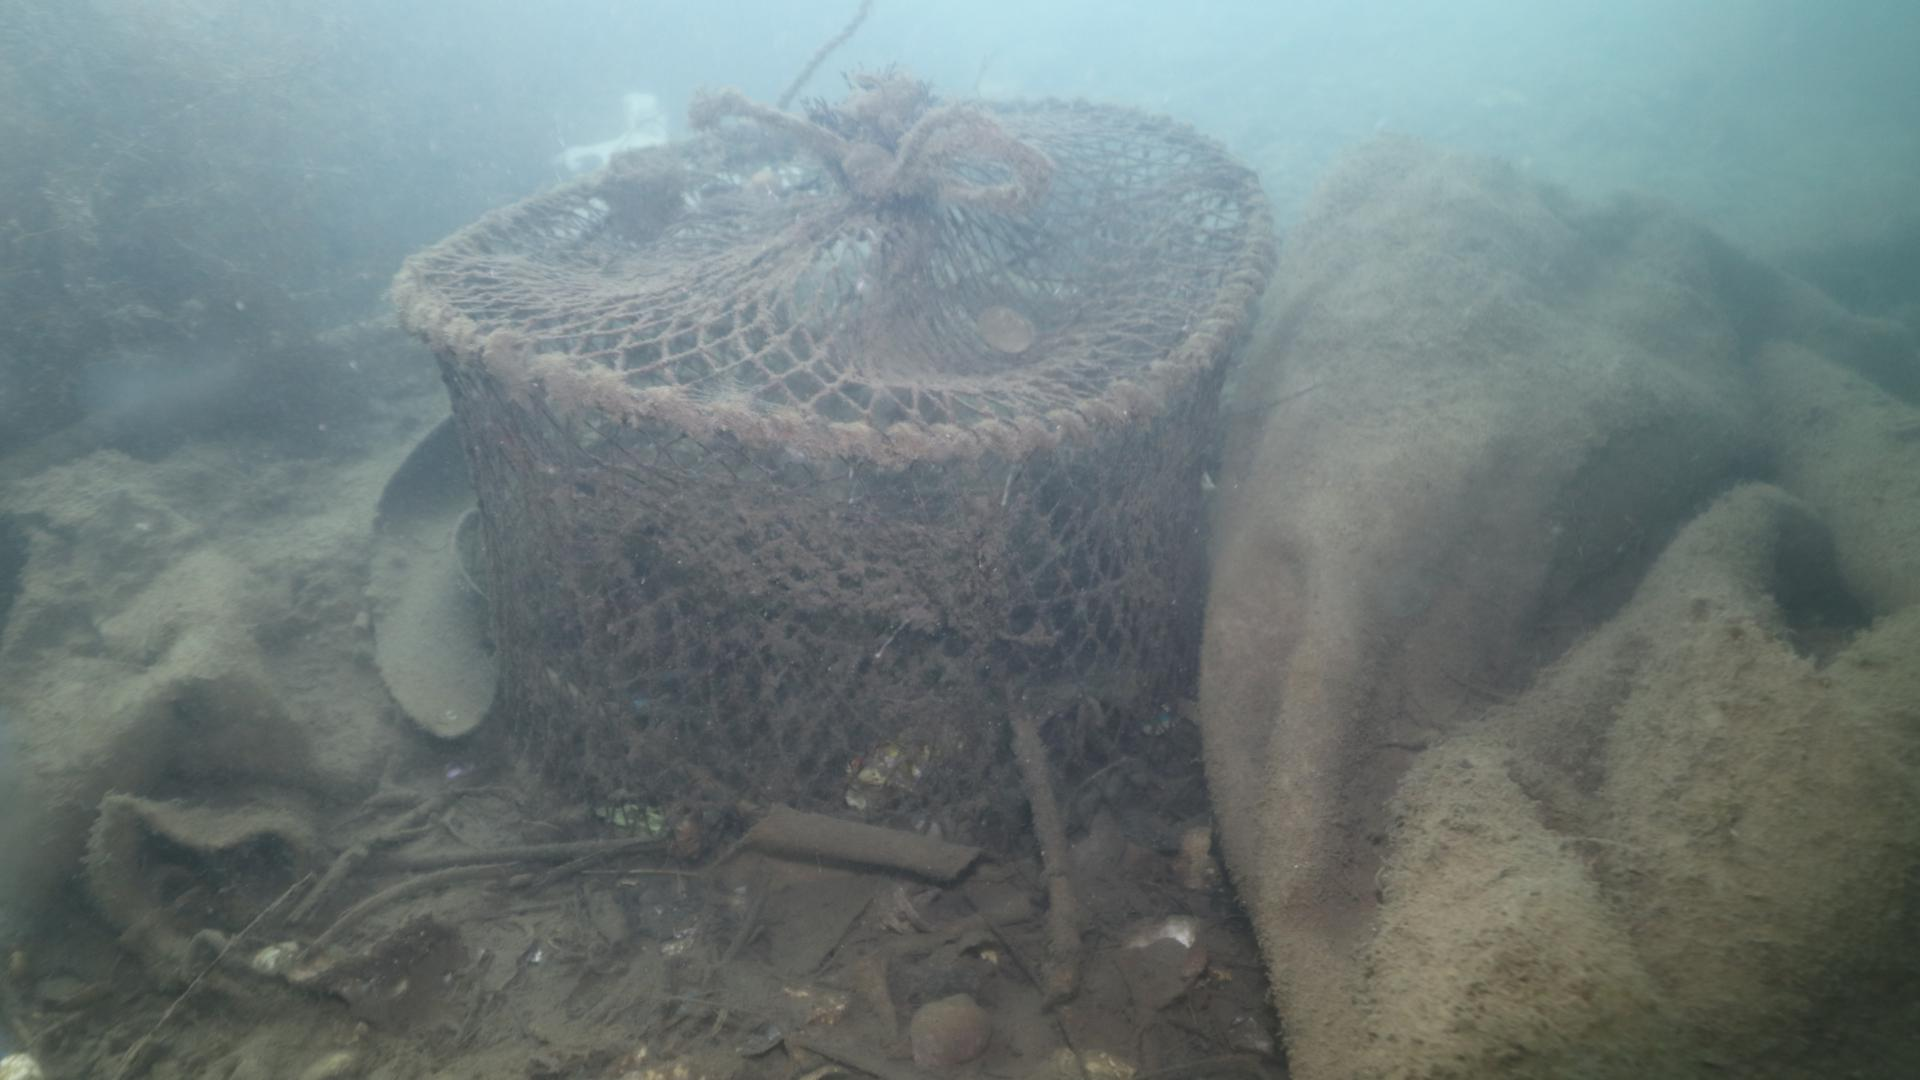circular fish trap: (385, 96, 1279, 848)
